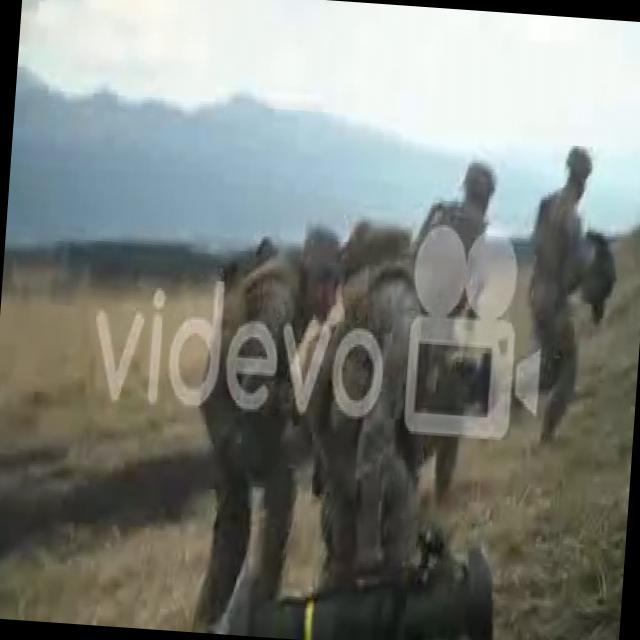rocket: (246, 540, 499, 640)
